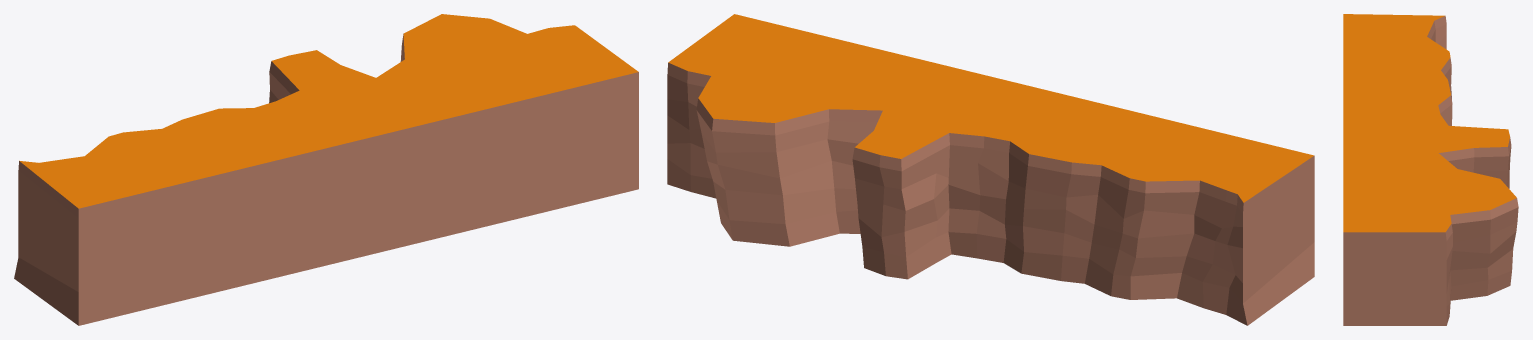
File: Cliff_1.fbx
3 views of the same model, side by side, from view 1: azimuth 30°, elevation 25°; view 2: azimuth 150°, elevation 25°; view 3: azimuth 270°, elevation 25° (orthographic). The views are drawn at different scales.
Visible parts, largest first — view 1: Plane; view 2: Plane; view 3: Plane.
Part boxes in pixels (<box>): Plane: <box>14,14,638,325</box>; Plane: <box>667,14,1314,325</box>; Plane: <box>1343,14,1518,325</box>.
Size of the model in its own units: 100 by 20 by 33.91.
